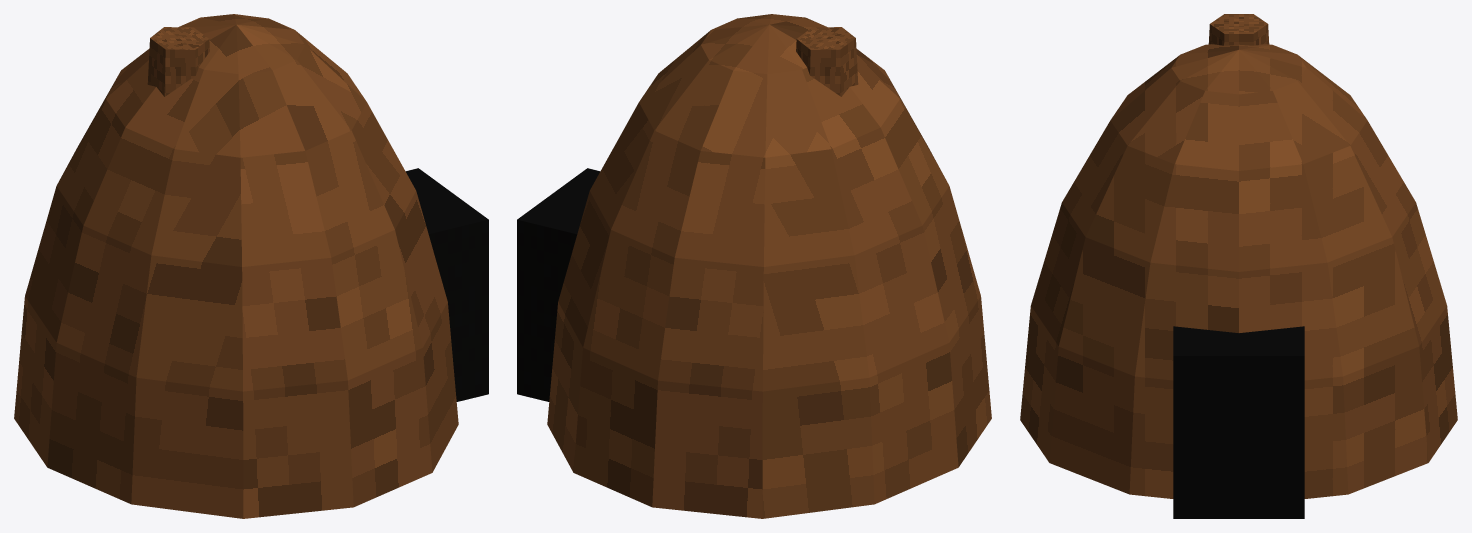
File: horno_cocina.glb
The picture shows the model from 3 angles, left to right: view 1: azimuth 30°, elevation 25°; view 2: azimuth 150°, elevation 25°; view 3: azimuth 270°, elevation 25°; orthographic projection. The views are drawn at different scales.
Parts seen in each view (by area): view 1: cupula, entrada, chimenea; view 2: cupula, entrada, chimenea; view 3: cupula, entrada, chimenea.
Part boxes in pixels (x1,y1,x2,y2): cupula: (14, 14, 458, 518); entrada: (405, 168, 488, 401); chimenea: (147, 27, 209, 96); cupula: (547, 14, 991, 518); entrada: (517, 168, 600, 401); chimenea: (796, 27, 858, 96); cupula: (1020, 44, 1457, 498); entrada: (1173, 326, 1304, 518); chimenea: (1208, 14, 1269, 45).
Size of the model in its own units: 1.5 by 1.4 by 1.5.
Materials: 1 (1 with a texture image).
